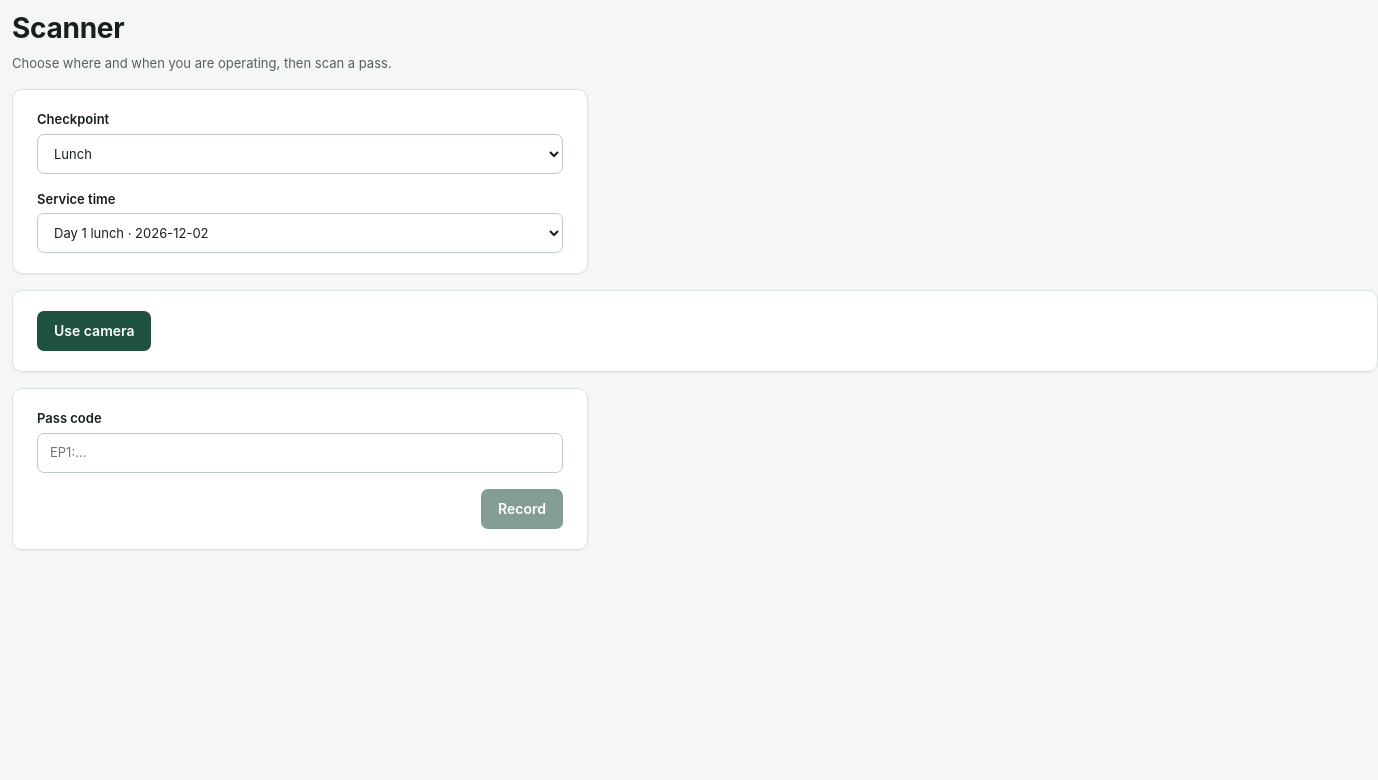
scanner › without a camera, the manual code entry still works, and the page says why
Select "Lunch" in the dropdown labelled "Checkpoint" at (300, 154), box [37, 134, 563, 174]
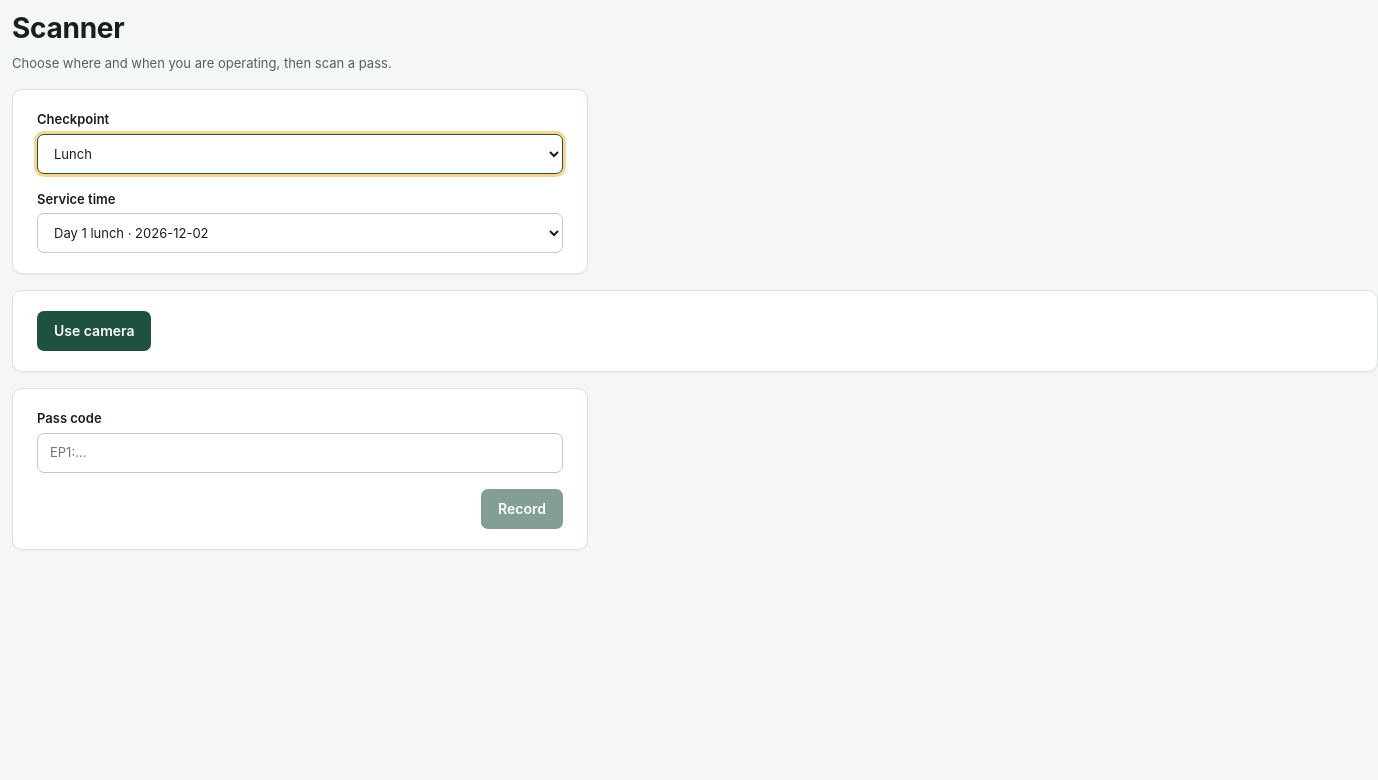
Select "Day 1 lunch · 2026-12-02" in the dropdown labelled "Service time" at (300, 233), box [37, 213, 563, 253]
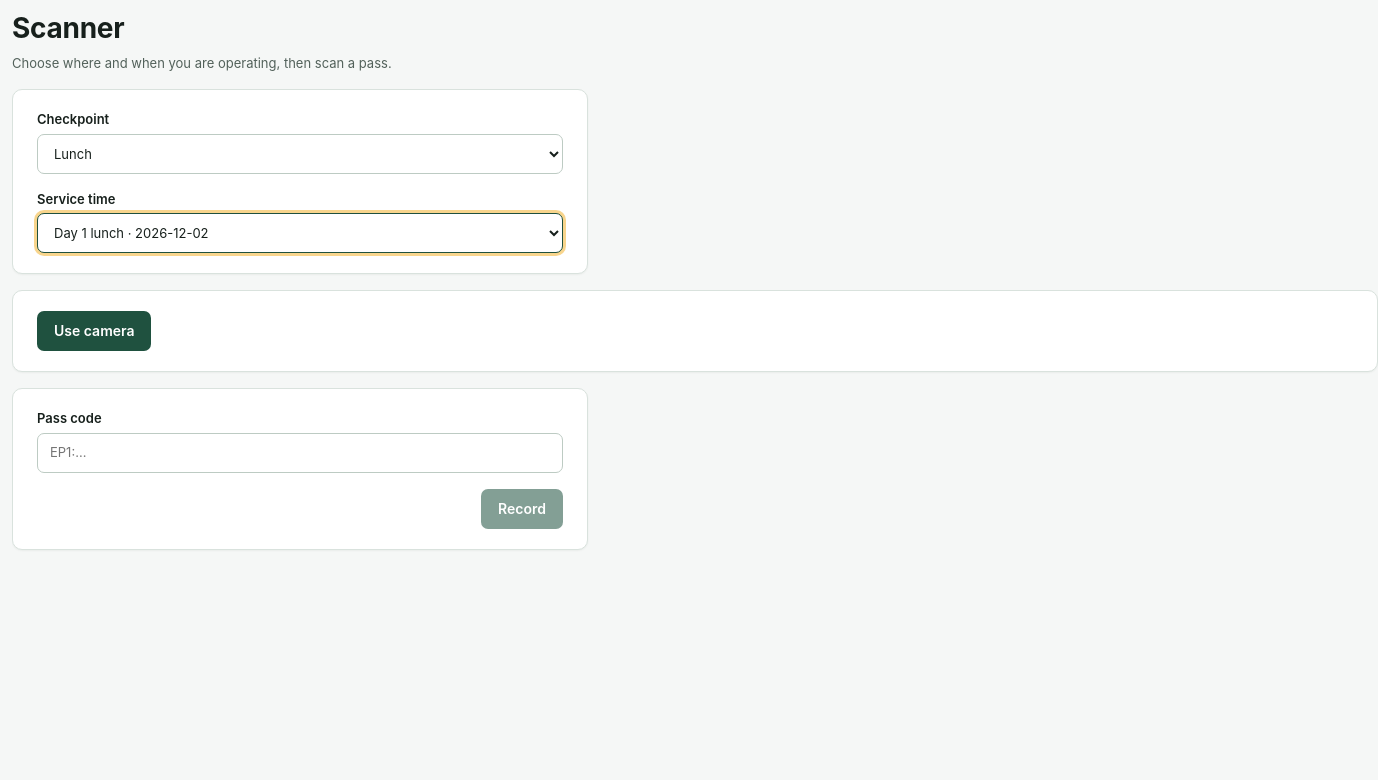
Click the button "Use camera" at (94, 331), box [37, 311, 152, 351]
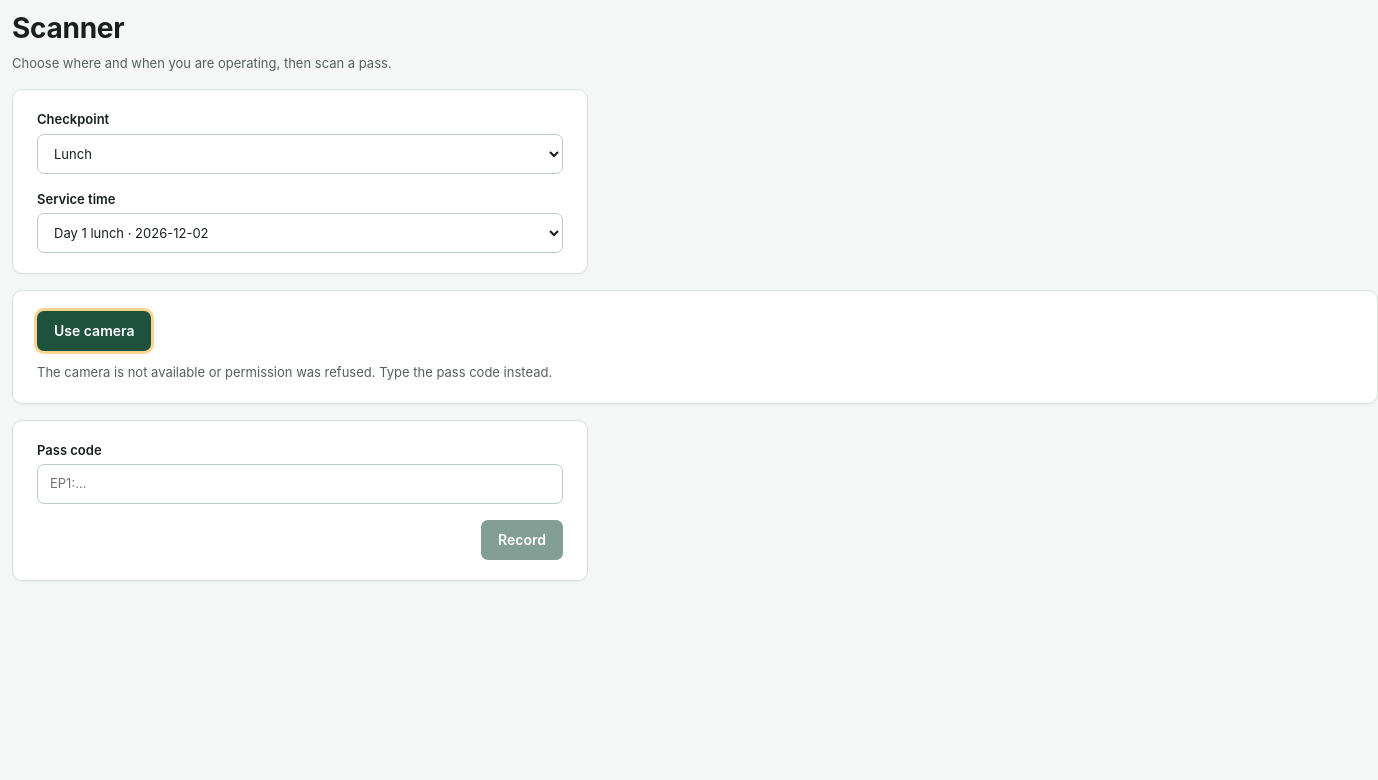
expect the field labelled "Pass code" is shown: met, box [37, 464, 563, 504]
expect the text "camera is not available" is shown: met, box [37, 364, 552, 380]
